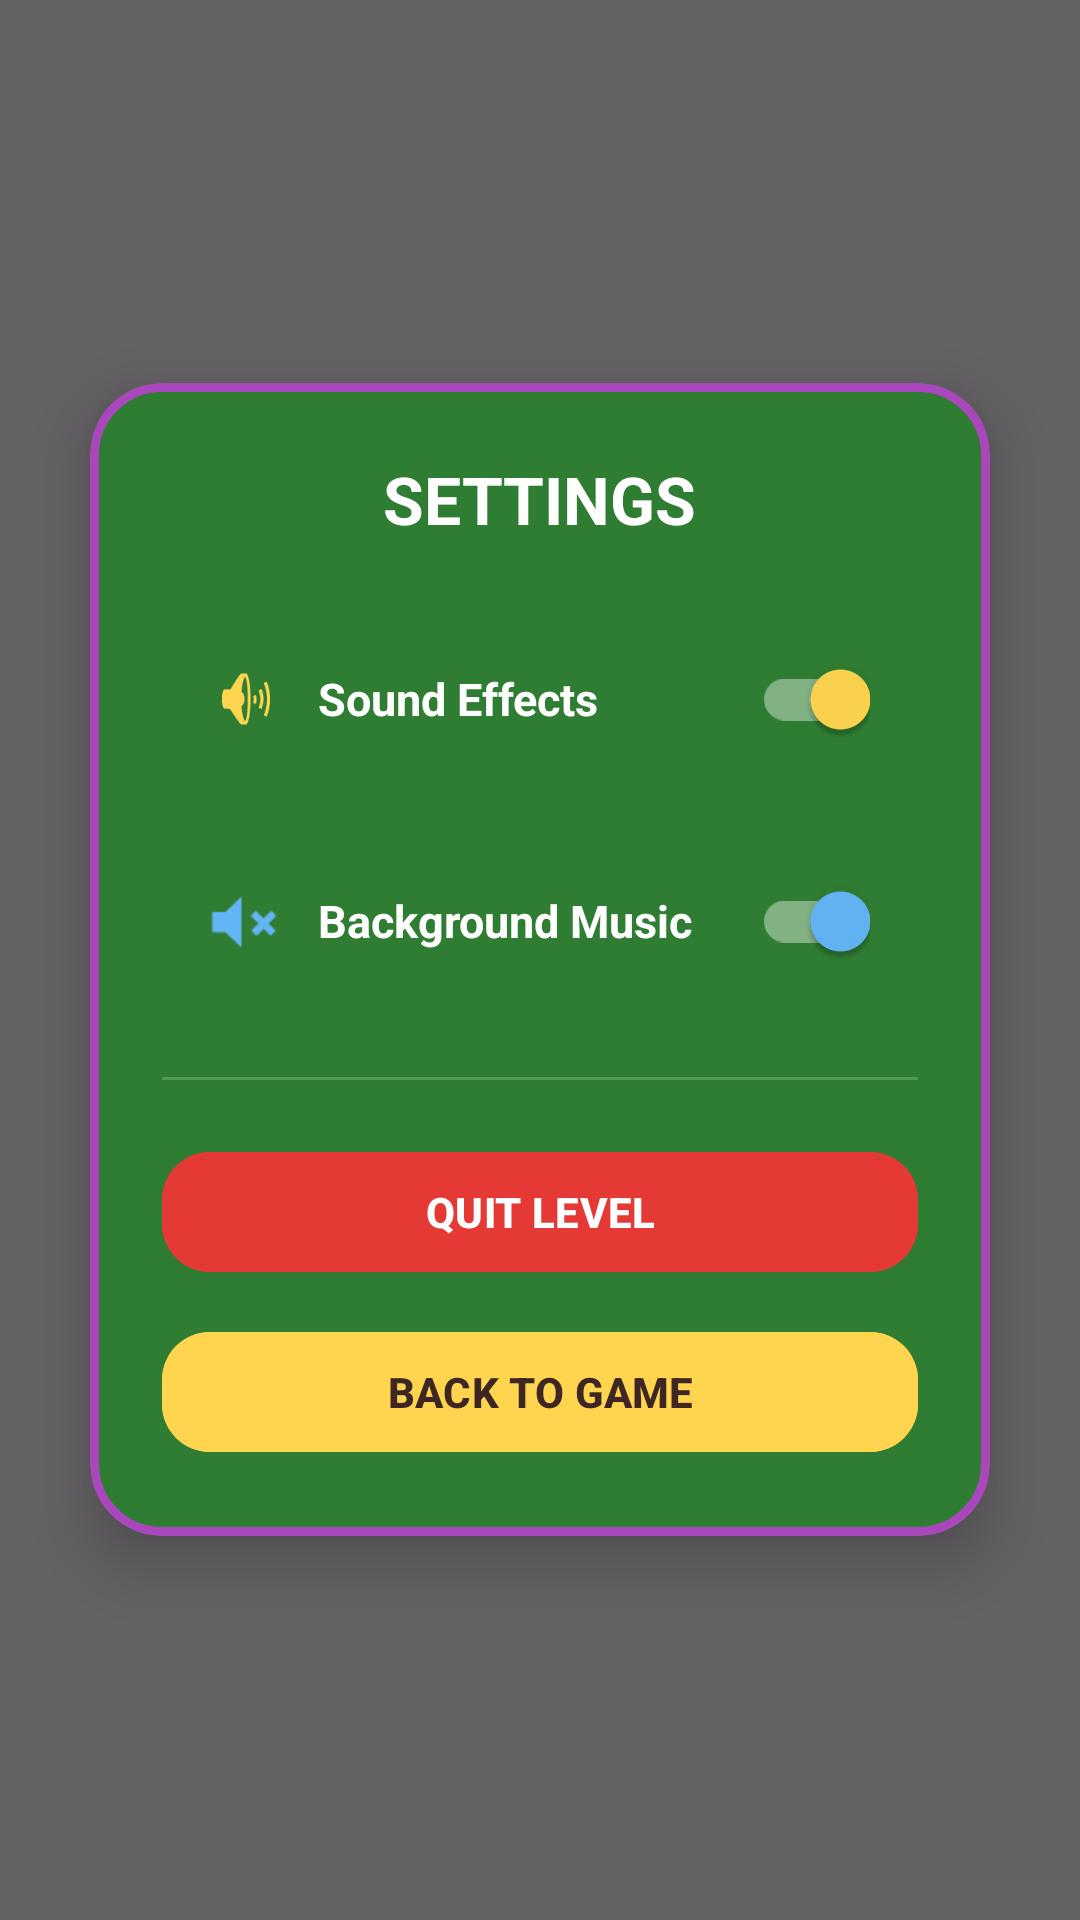

Icon click points for this 1080x1920 phone screenshot, format (x,y):
lock silent mode: (244,922)
lock silent mode off: (246,699)
